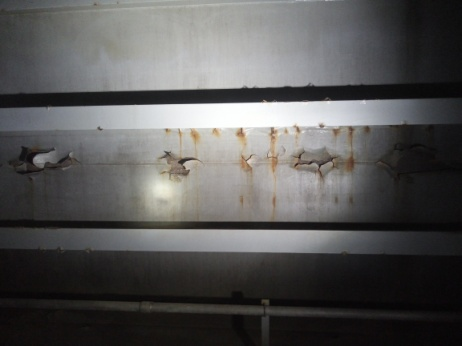corrosion: (6, 140, 72, 177), (284, 146, 349, 178), (154, 150, 201, 180), (233, 128, 258, 169), (266, 127, 283, 168)
